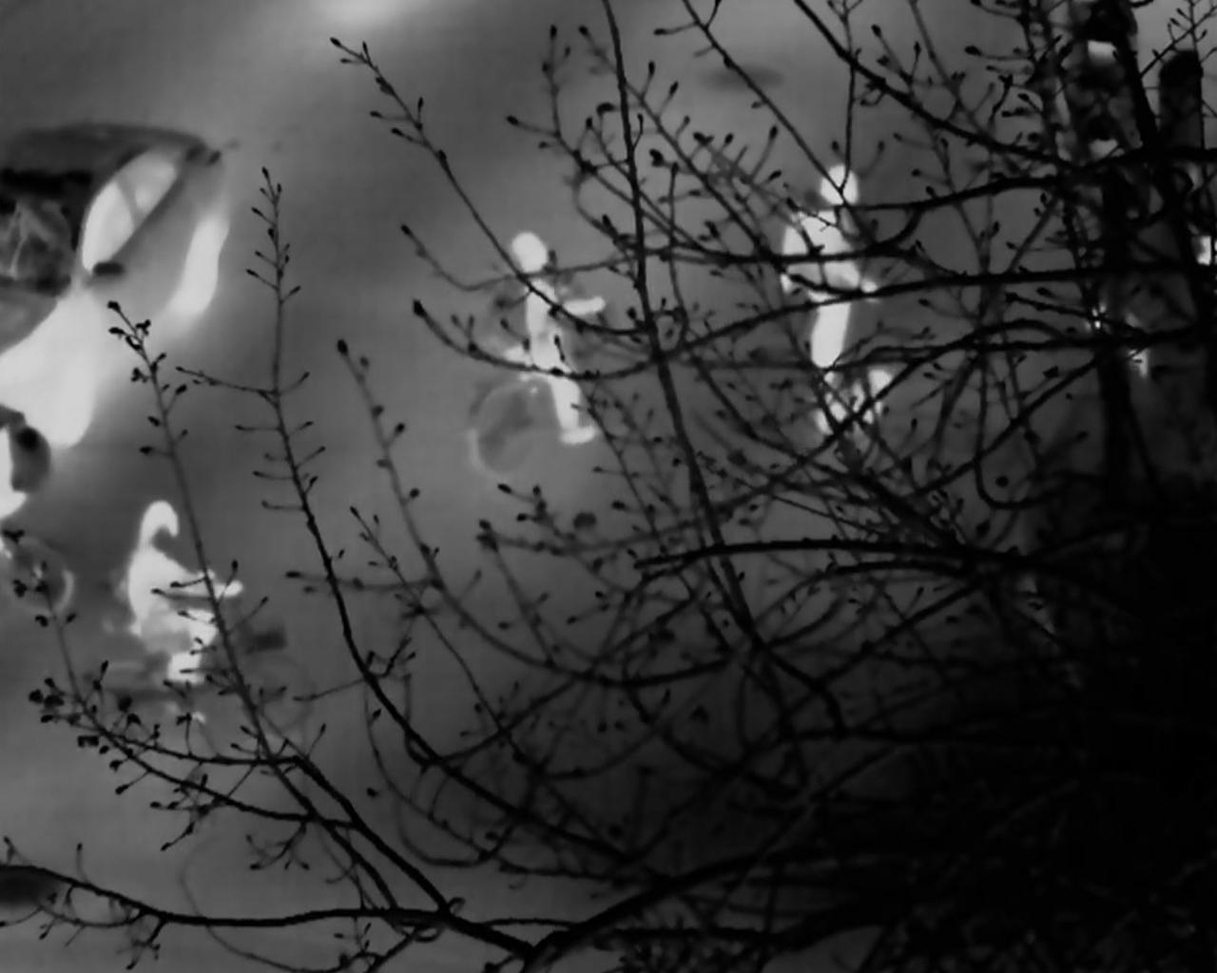person: (764, 151, 870, 420), (121, 498, 252, 707), (496, 233, 607, 444)
